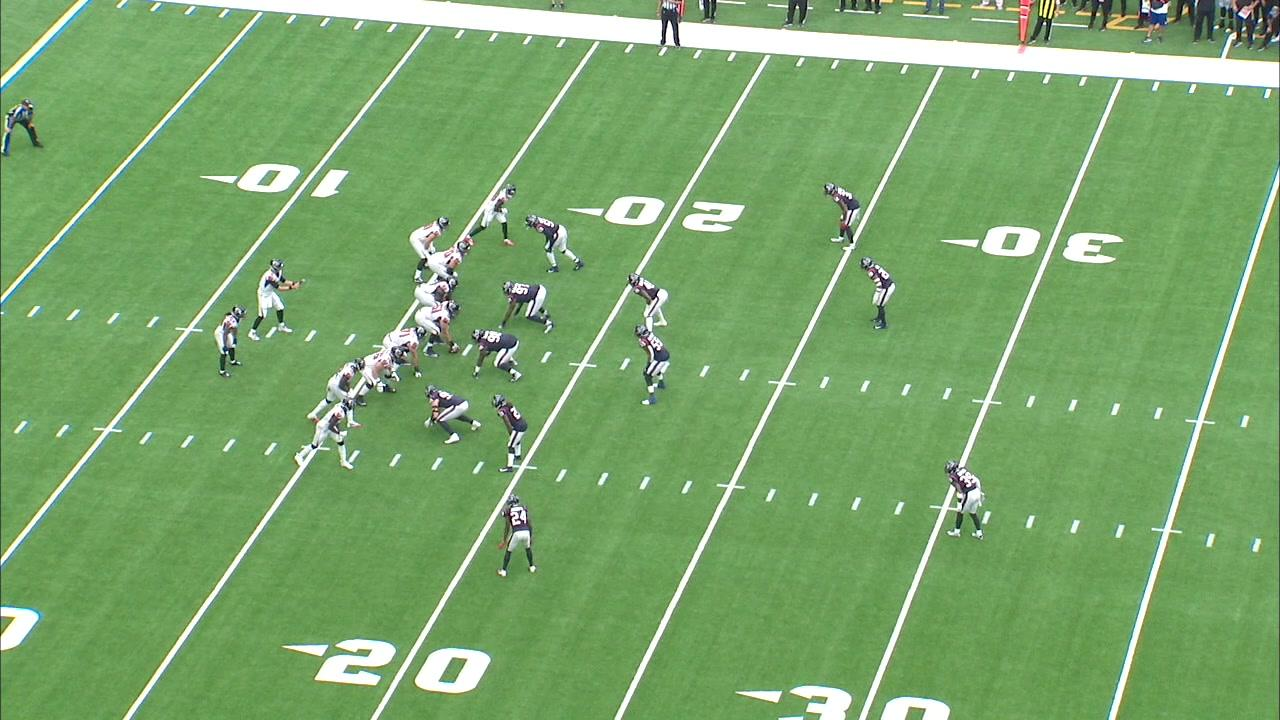player: (291, 397, 357, 474), (248, 253, 304, 342), (303, 355, 365, 430), (464, 181, 520, 251), (421, 382, 482, 446), (524, 211, 584, 275), (496, 489, 538, 580), (942, 457, 986, 542), (488, 390, 529, 474), (631, 323, 672, 406), (405, 213, 452, 285), (496, 278, 556, 334), (355, 343, 408, 405), (412, 297, 463, 359), (469, 327, 524, 383), (821, 181, 862, 253), (626, 268, 670, 335), (380, 323, 428, 382), (859, 257, 897, 331), (211, 304, 246, 382), (426, 238, 471, 289), (412, 274, 459, 312)
ref: (0, 96, 43, 158), (650, 0, 683, 49)
